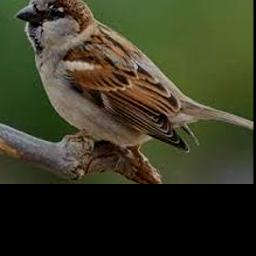Sparrow: (15, 0, 254, 153)
